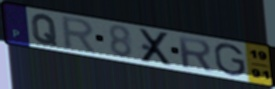8: (106, 24, 134, 60)
G: (212, 42, 248, 77)
Q: (30, 13, 59, 48)
R: (61, 15, 100, 56), (175, 35, 215, 73)
X: (138, 28, 175, 68)
